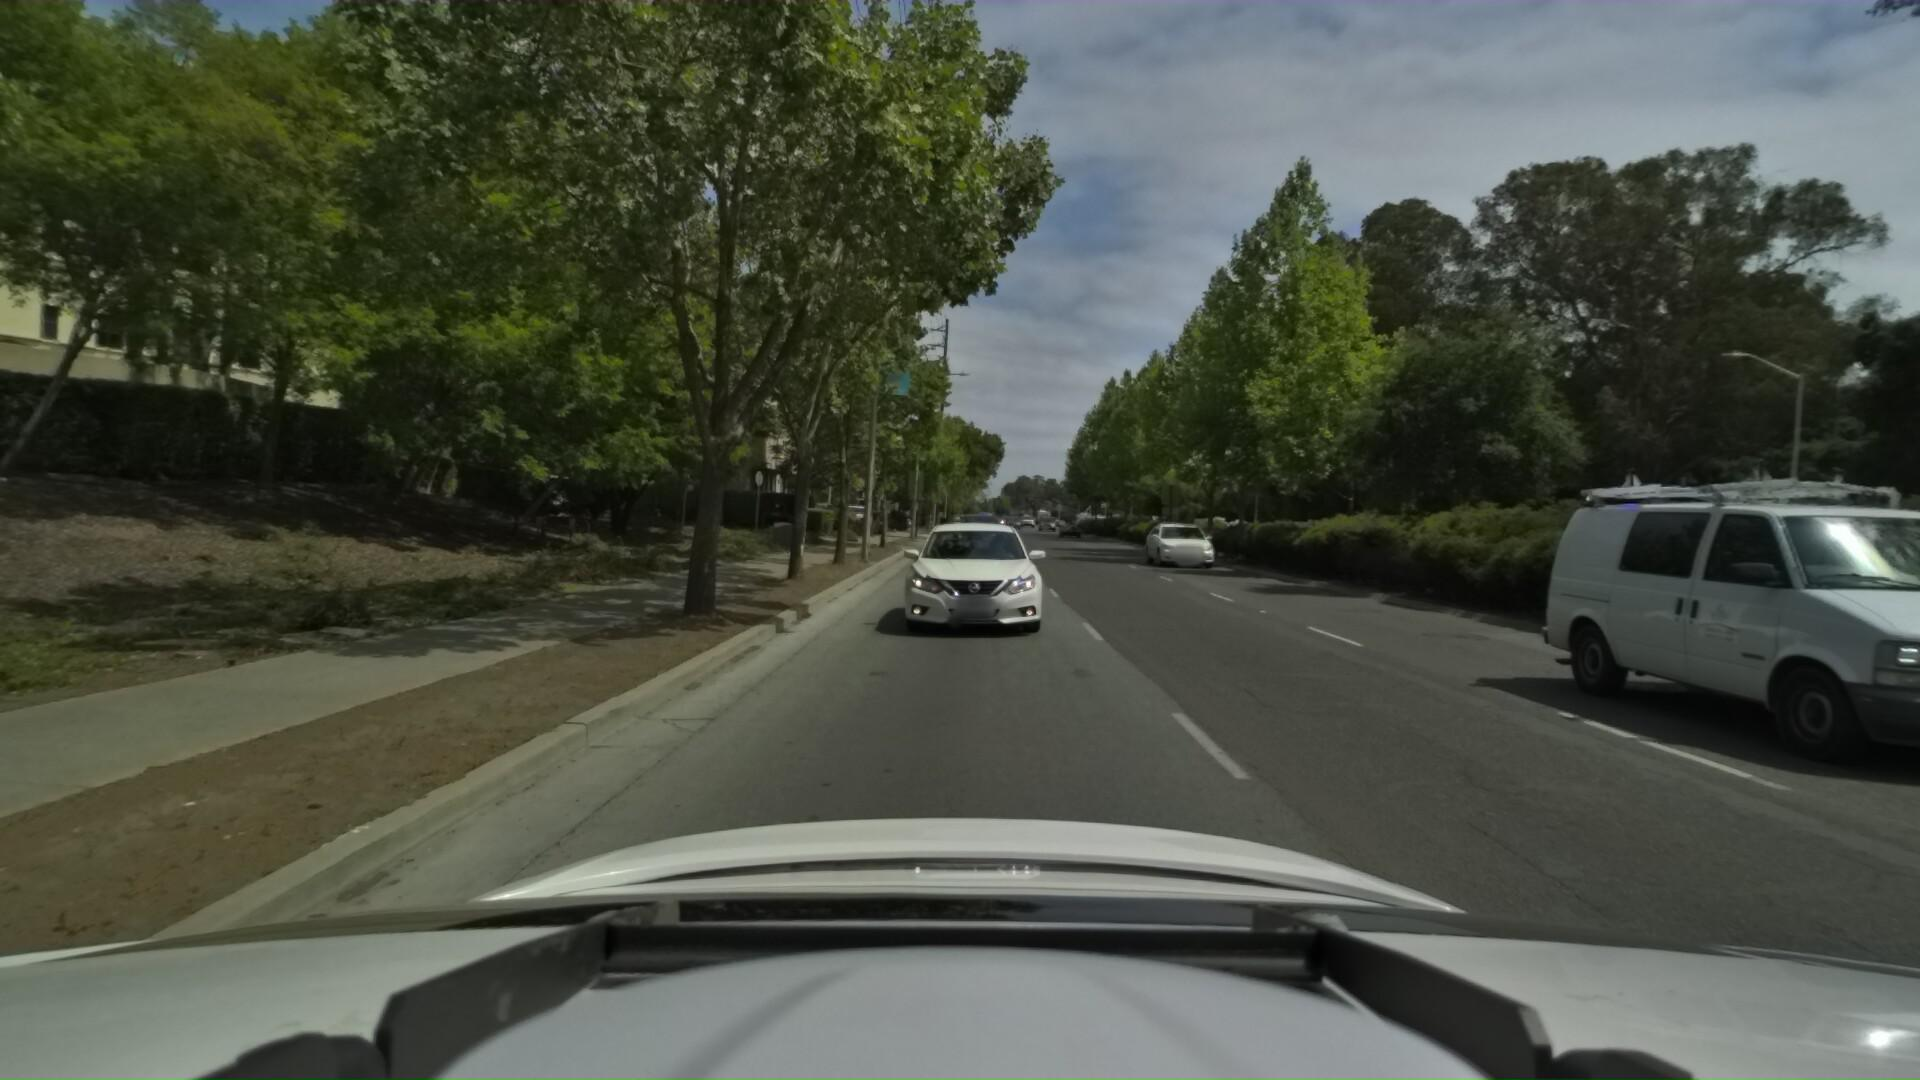car: (1456, 435, 1920, 753), (891, 509, 1054, 637), (1131, 500, 1211, 570), (947, 509, 1004, 556), (833, 498, 873, 530), (1054, 513, 1083, 535)
other_vehicle: (1276, 514, 1349, 560)
